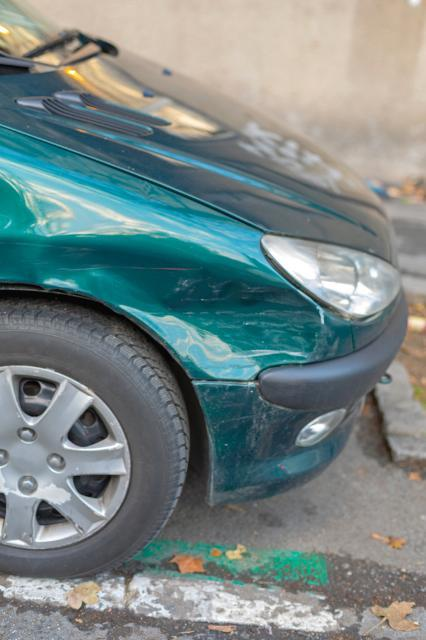dent: (39, 234, 319, 382)
